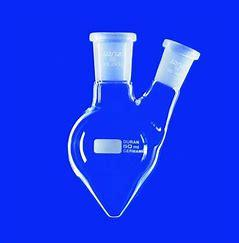Pear shaped flask: (54, 30, 207, 218)
